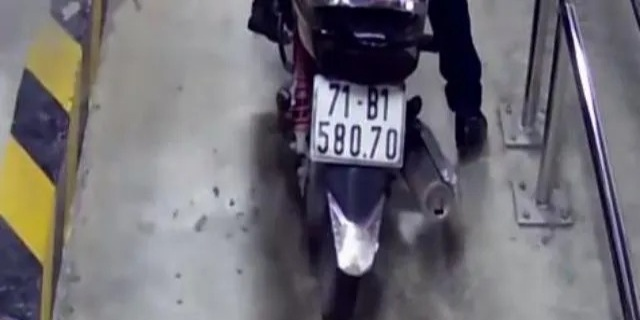bien_so: (313, 76, 403, 170)
